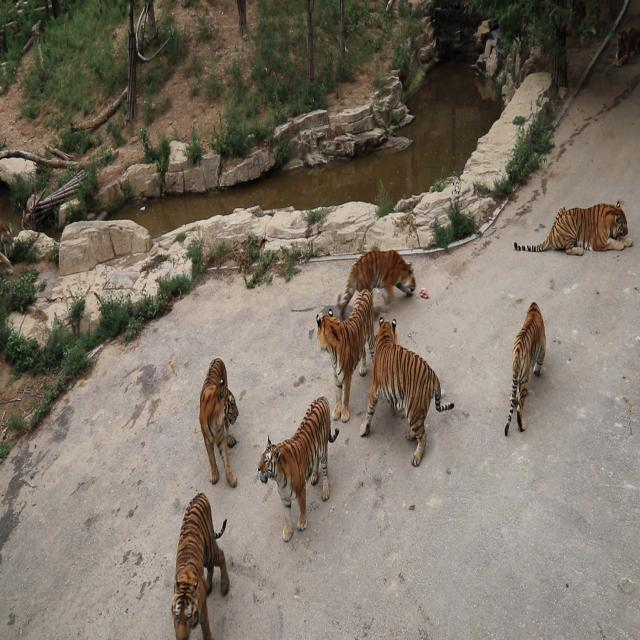Tiger: (360, 316, 459, 469), (256, 392, 339, 547), (169, 488, 231, 640), (310, 286, 380, 418), (195, 352, 246, 494), (510, 200, 634, 257), (500, 298, 548, 439), (336, 245, 416, 308), (0, 214, 15, 275)
